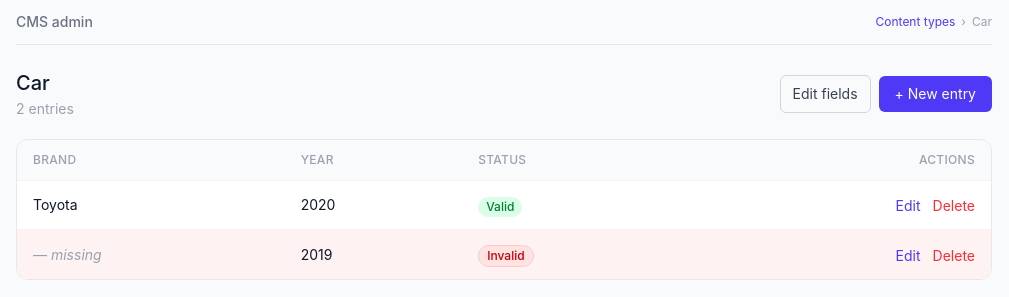
Scenario: EntryList › Delete removes the row on success
The width and height of the screenshot is (1009, 297).
Expected: the text "Toyota" is shown, [33,196,78,213]
Click the button "Delete" in the row of "Toyota" at (954, 206), box [933,196,975,216]
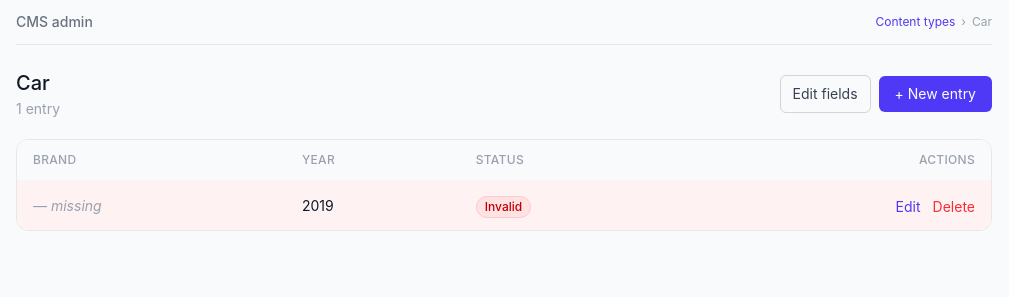
Result: the text "Toyota" is gone
